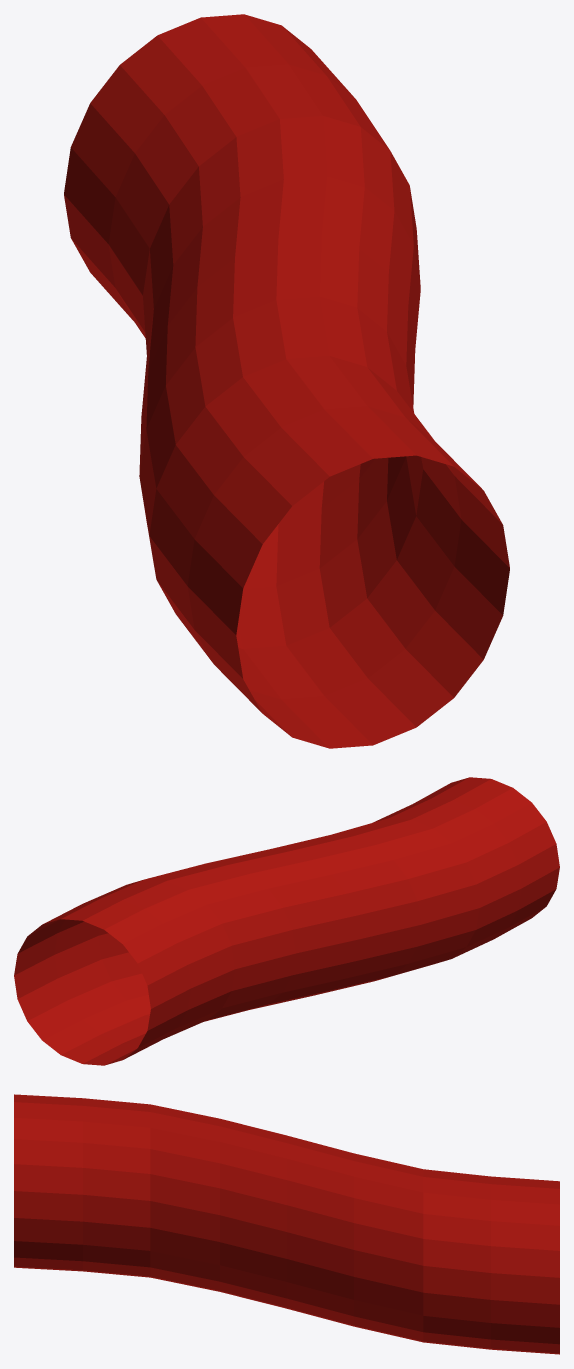
File: Vessel_biaisright_100_inside.fbx
The picture shows the model from 3 angles, top to bottom: view 1: azimuth 30°, elevation 25°; view 2: azimuth 150°, elevation 25°; view 3: azimuth 270°, elevation 25°; orthographic projection. The views are drawn at different scales.
Parts seen in each view (by area): view 1: Vessel_biaisright_100; view 2: Vessel_biaisright_100; view 3: Vessel_biaisright_100.
Part boxes in pixels (bbox=[...]): Vessel_biaisright_100: bbox=[64, 14, 509, 748]; Vessel_biaisright_100: bbox=[14, 777, 559, 1065]; Vessel_biaisright_100: bbox=[14, 1094, 559, 1354].
Size of the model in its own units: 13.91 by 6.39 by 20.
